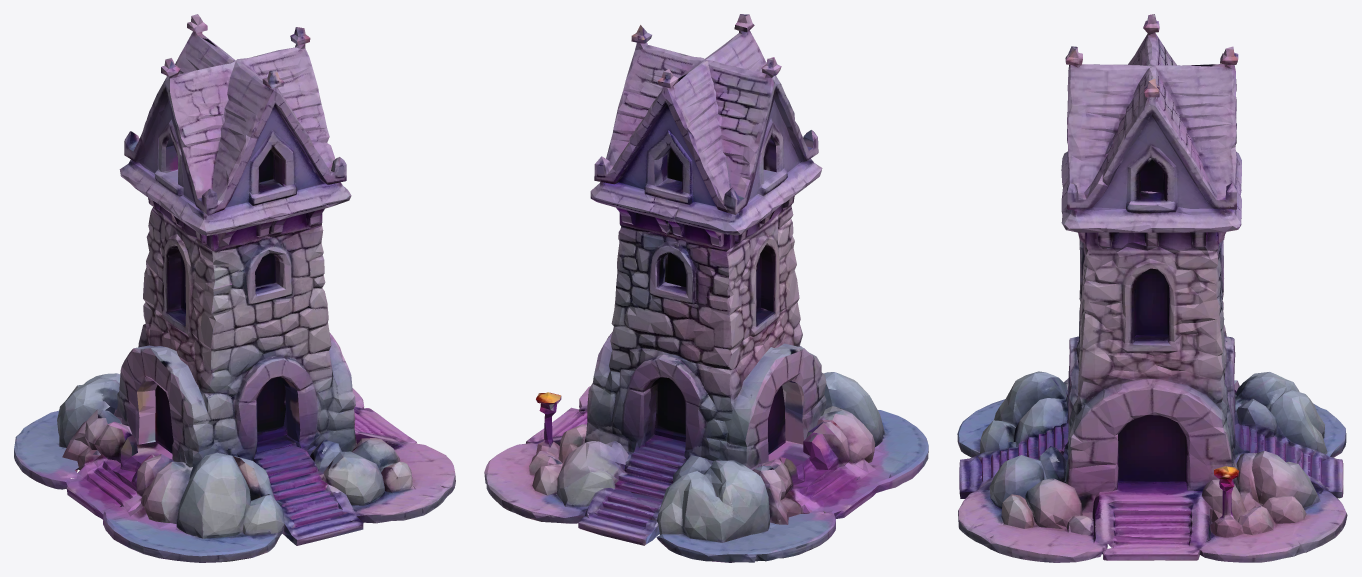
The model's file is tower_1.glb.
3 renders of one model, left to right at view 1: azimuth 30°, elevation 25°; view 2: azimuth 150°, elevation 25°; view 3: azimuth 270°, elevation 25°, orthographic.
Bounding box in the file's own units: 1.59 × 1.97 × 1.6.
Materials: 1 (1 with a texture image).
